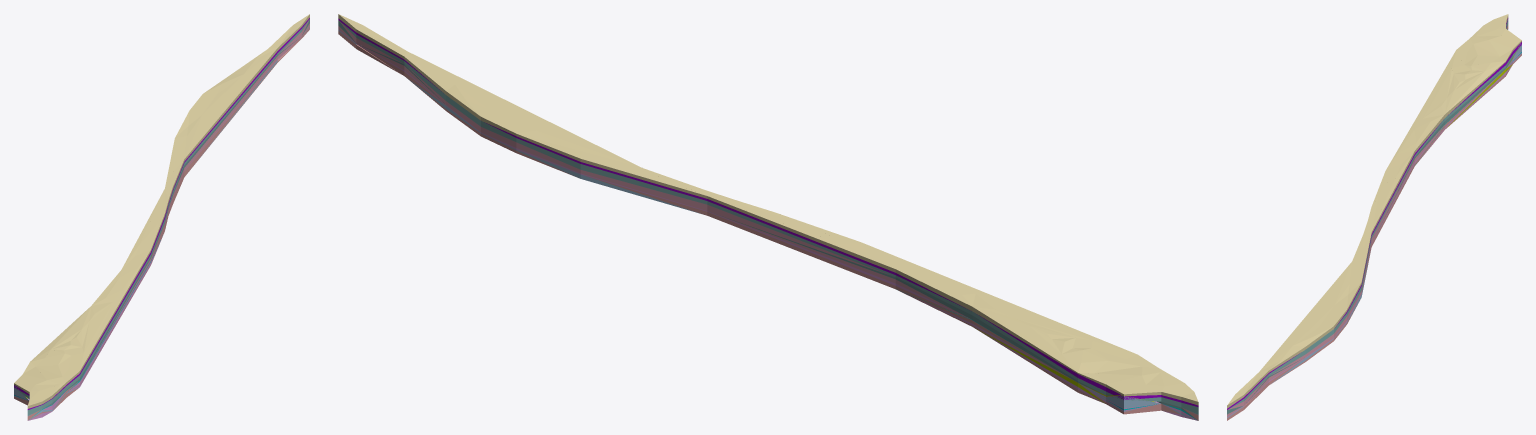
The picture shows the model from 3 angles, left to right: view 1: azimuth 90°, elevation 25°; view 2: azimuth 150°, elevation 25°; view 3: azimuth 270°, elevation 25°; orthographic projection. The views are drawn at different scales.
Visible parts, largest first — view 1: Geode893.Geode893_Geode893, Geode888.Geode888_Geode888, Geode810.Geode810_Geode810, Geode558.Geode558_Geode558, Geode734.Geode734_Geode734, Geode78.Geode78_Geode78, Geode684.Geode684_Geode684, Geode280.Geode280_Geode280, Geode812.Geode812_Geode812, Geode857.Geode857_Geode857; view 2: Geode893.Geode893_Geode893, Geod0.Geod0_Geod0, Geode888.Geode888_Geode888, Geode373.Geode373_Geode373, Geode990.Geode990_Geode990; view 3: Geode893.Geode893_Geode893, Geode888.Geode888_Geode888, Geode990.Geode990_Geode990, Geod0.Geod0_Geod0, Geode734.Geode734_Geode734, Geode684.Geode684_Geode684, Geode857.Geode857_Geode857.
Part boxes in pixels (bbox=[...]): Geode893.Geode893_Geode893: bbox=[184, 48, 277, 161]; Geode888.Geode888_Geode888: bbox=[185, 75, 242, 157]; Geode810.Geode810_Geode810: bbox=[80, 250, 150, 372]; Geode558.Geode558_Geode558: bbox=[184, 56, 277, 170]; Geode734.Geode734_Geode734: bbox=[84, 302, 112, 352]; Geode78.Geode78_Geode78: bbox=[184, 64, 273, 176]; Geode684.Geode684_Geode684: bbox=[51, 306, 90, 348]; Geode280.Geode280_Geode280: bbox=[80, 262, 150, 384]; Geode812.Geode812_Geode812: bbox=[80, 255, 150, 377]; Geode857.Geode857_Geode857: bbox=[140, 189, 164, 243]; Geode893.Geode893_Geode893: bbox=[409, 52, 637, 165]; Geod0.Geod0_Geod0: bbox=[707, 196, 895, 272]; Geode888.Geode888_Geode888: bbox=[457, 85, 639, 166]; Geode373.Geode373_Geode373: bbox=[707, 212, 895, 289]; Geode990.Geode990_Geode990: bbox=[972, 307, 1077, 373]; Geode893.Geode893_Geode893: bbox=[1260, 263, 1350, 370]; Geode888.Geode888_Geode888: bbox=[1293, 262, 1351, 344]; Geode990.Geode990_Geode990: bbox=[1445, 61, 1505, 117]; Geod0.Geod0_Geod0: bbox=[1371, 151, 1414, 233]; Geode734.Geode734_Geode734: bbox=[1423, 68, 1451, 117]; Geode684.Geode684_Geode684: bbox=[1445, 71, 1484, 113]; Geode857.Geode857_Geode857: bbox=[1371, 177, 1395, 231].
Size of the model in its own units: 13.89 by 0.3935 by 4.42.
